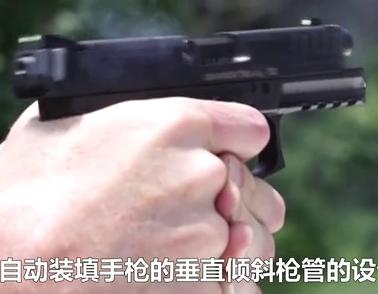gun: (1, 1, 378, 294)
